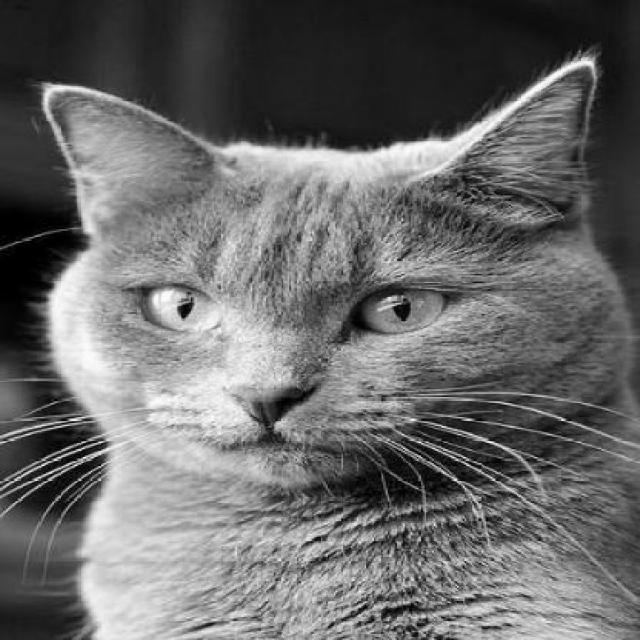Cat: (39, 55, 638, 640)
